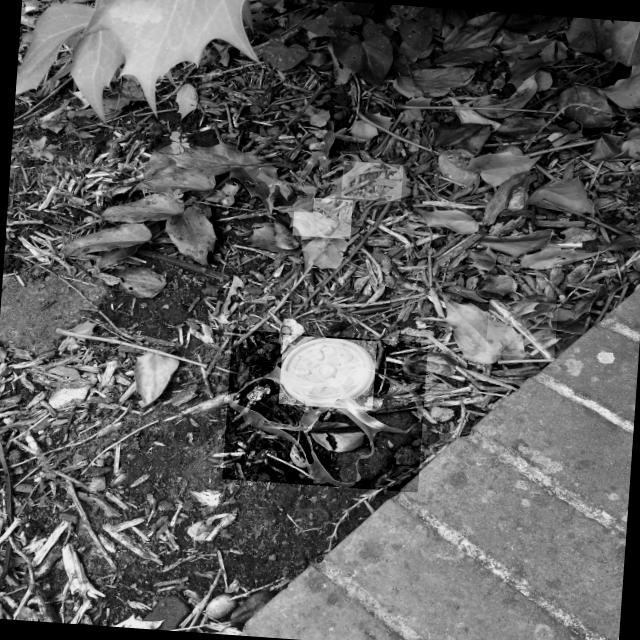Aluminium foil: (245, 385, 269, 408)
Lid: (280, 339, 373, 407)
Other plastic: (227, 335, 422, 487), (256, 152, 410, 239), (307, 407, 370, 482), (293, 200, 352, 237), (341, 164, 401, 199), (269, 185, 313, 210)
Plastic film: (489, 299, 553, 358), (17, 425, 55, 478), (547, 242, 581, 247)
Unlabeled litter: (135, 248, 229, 280), (350, 303, 390, 315)
